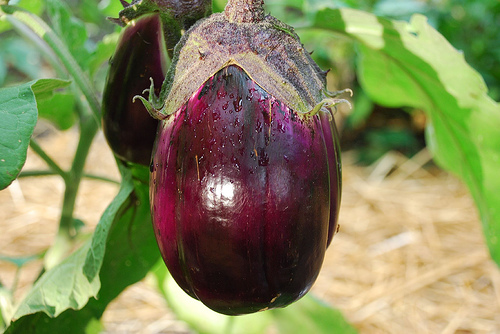eggplant: (138, 3, 354, 325), (94, 1, 224, 177)
